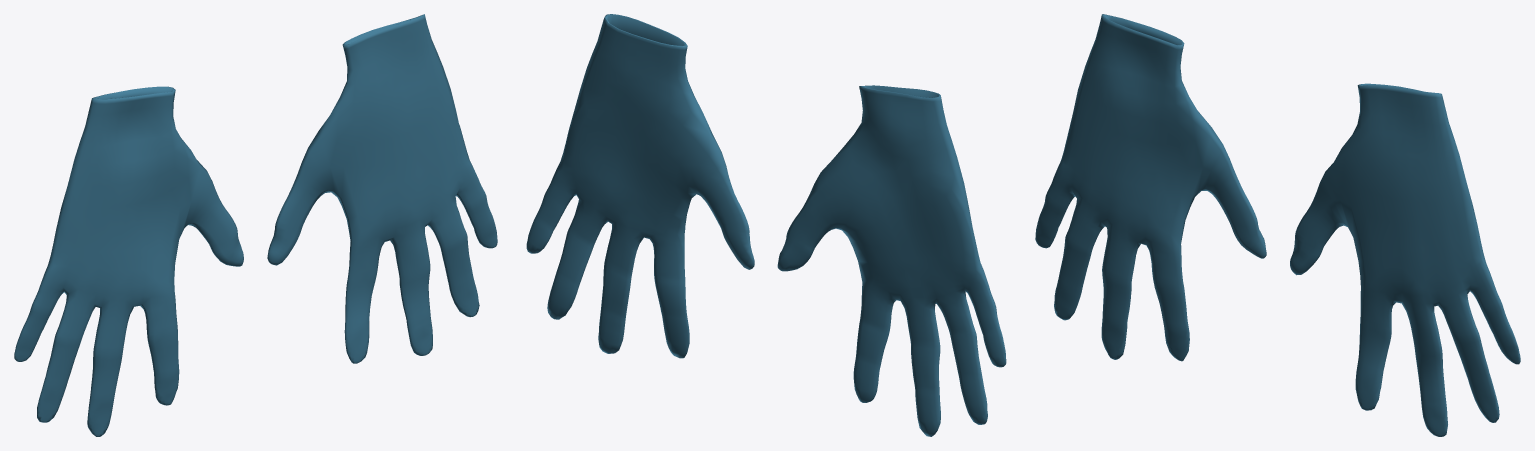
File: gloves.glb
3 renders of one model, left to right at view 1: azimuth 30°, elevation 25°; view 2: azimuth 150°, elevation 25°; view 3: azimuth 330°, elevation 25°, orthographic.
Visible parts, largest first — view 1: gloves; view 2: gloves; view 3: gloves.
Boxes of the visible parts, <box> form: gloves: <box>14,14,497,436</box>; gloves: <box>526,14,1006,436</box>; gloves: <box>1035,14,1520,436</box>.
Bounding box in the file's own units: 0.3221 × 0.2197 × 0.0148.
1 material, 1 textured.
